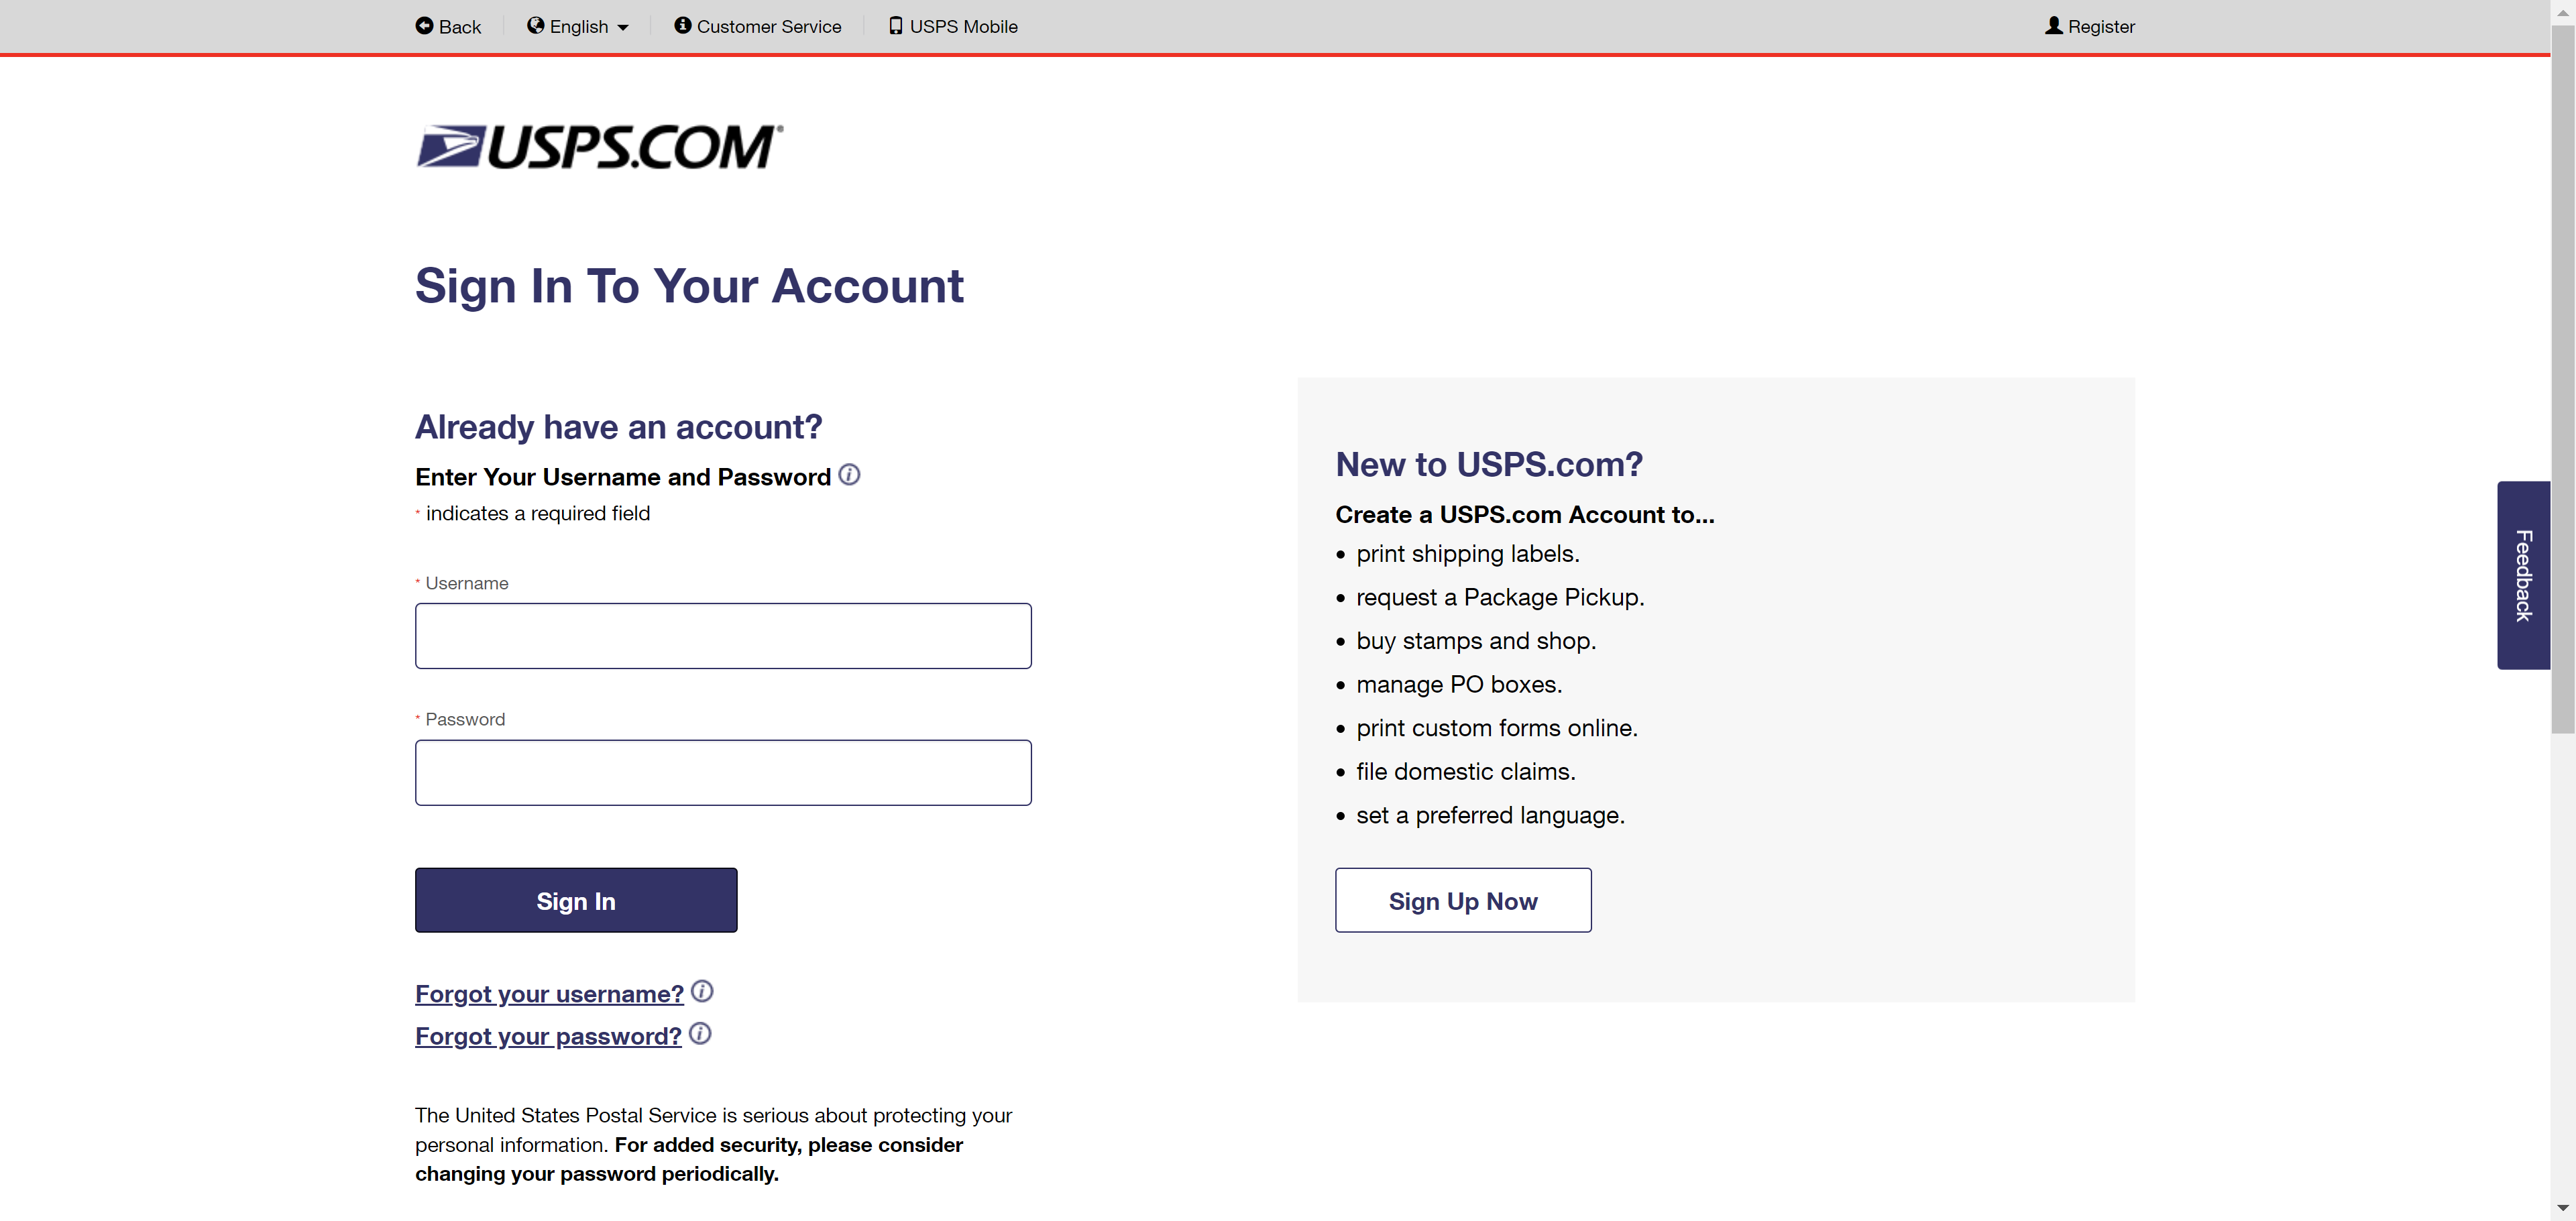login_button: (414, 868, 738, 933)
login_form: (406, 569, 1040, 940)
